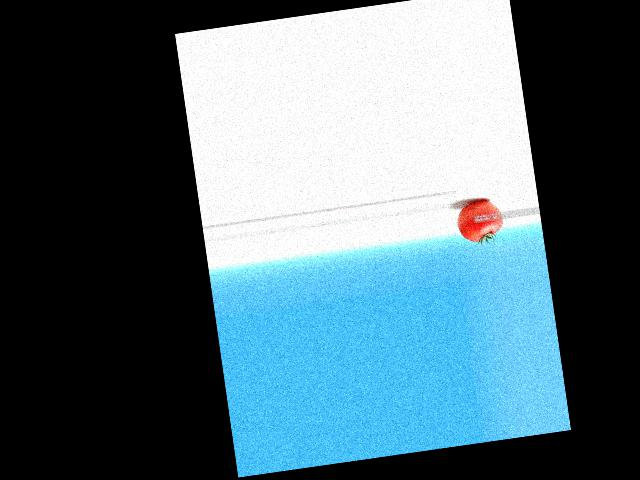tomato: (455, 198, 506, 244)
